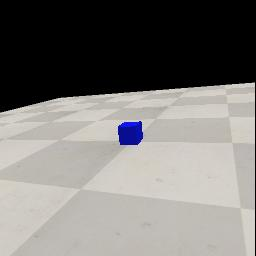box: (118, 121, 143, 145)
